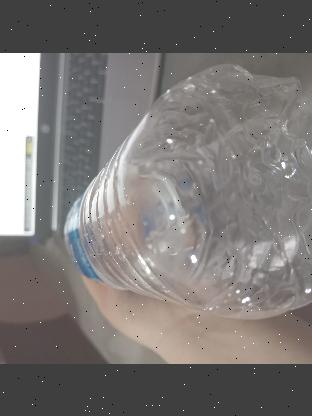Plastic Bottle: (56, 69, 312, 316)
